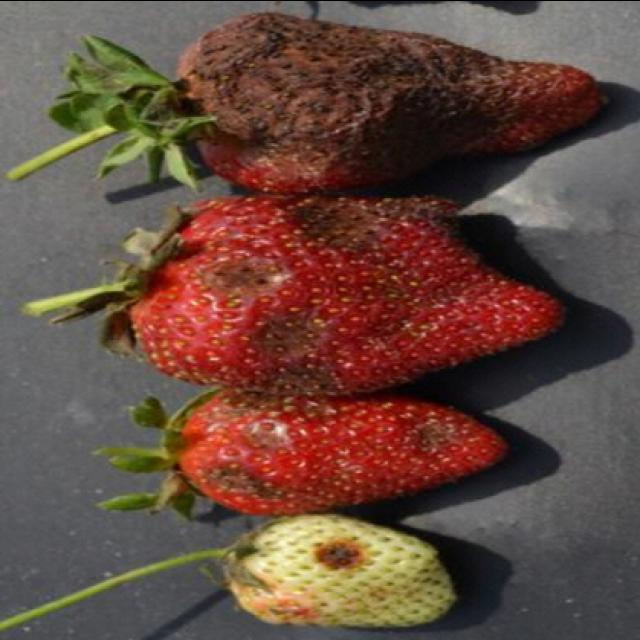Anthracnose Fruit Rot: (219, 23, 500, 141), (301, 194, 430, 236), (210, 264, 278, 302), (269, 362, 339, 398), (216, 461, 260, 501), (320, 536, 365, 572), (417, 418, 459, 454), (266, 316, 314, 346), (220, 396, 262, 420), (253, 419, 287, 445)
